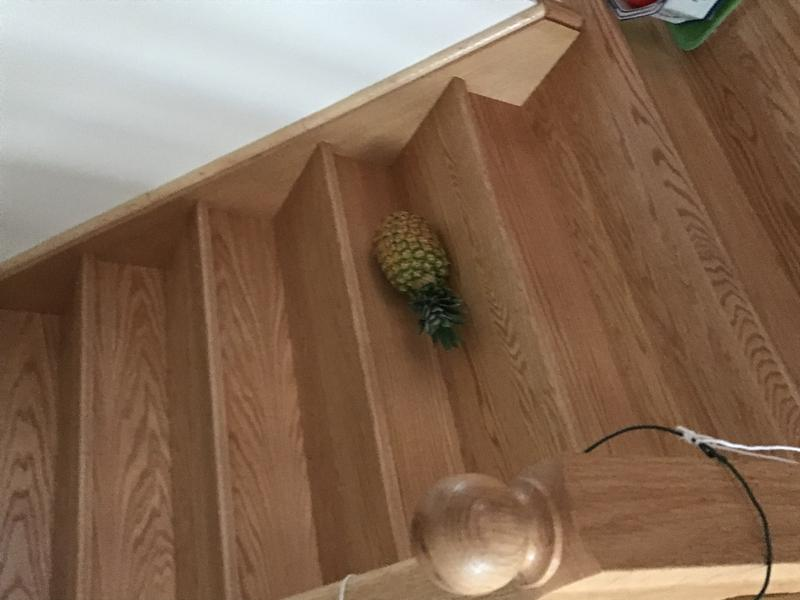pineapple: (370, 207, 476, 352)
